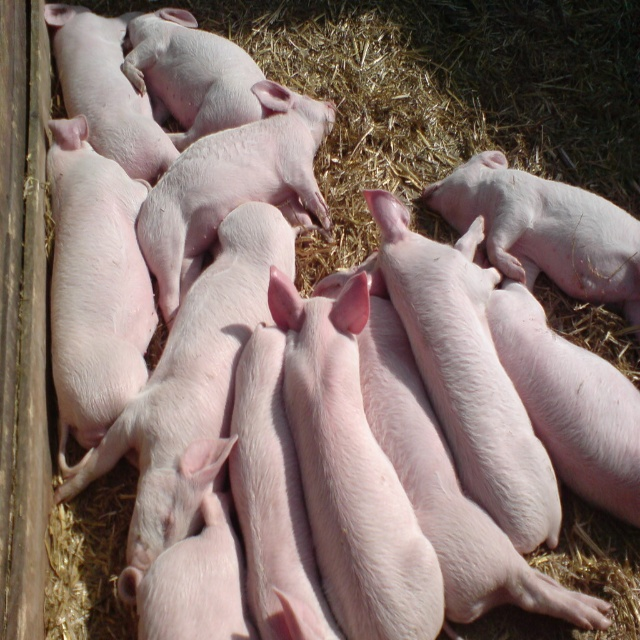Pig: (42, 3, 640, 639)
